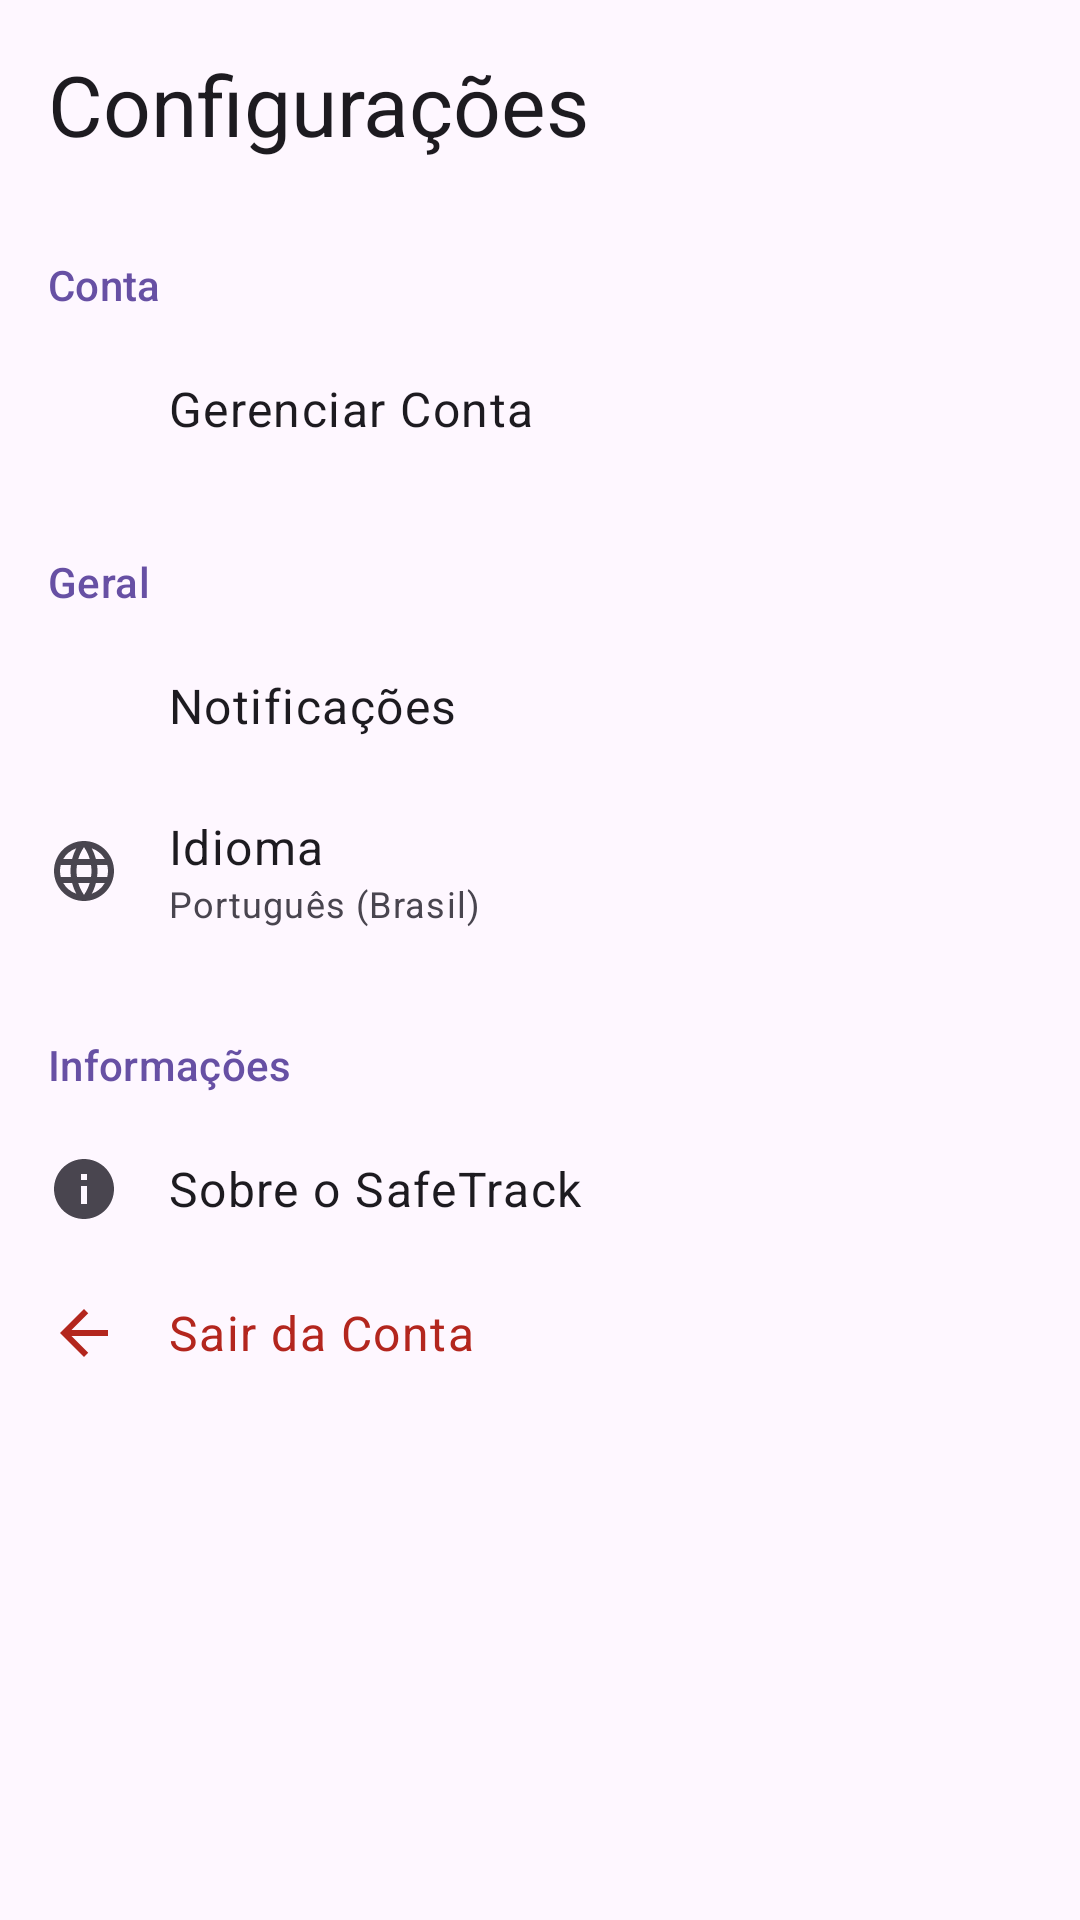

Named icons in this screenshot (1080*1920) and their centers, point (x, y):
Ícone de Sobre: point (84, 1189)
